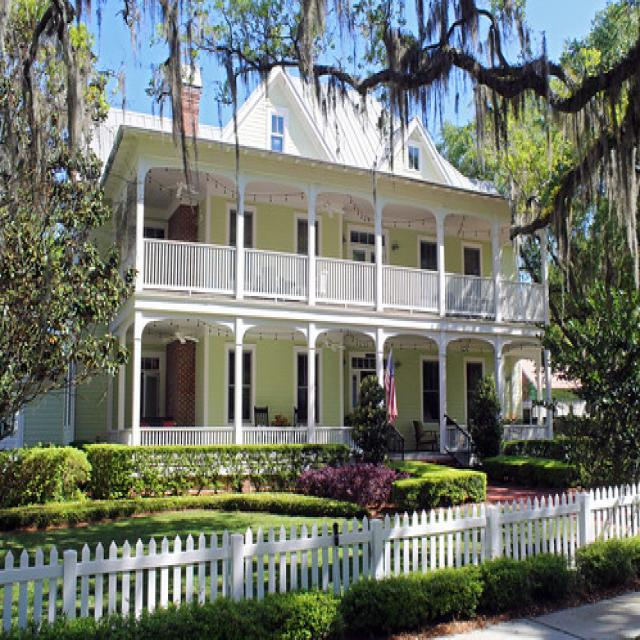Normal_building: (26, 55, 566, 456)
